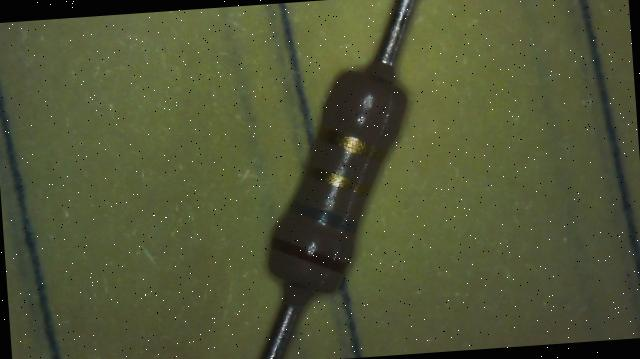brown: (269, 232, 347, 276)
gold: (316, 123, 386, 164), (304, 161, 371, 198)
grey: (288, 197, 358, 236)
resistor: (223, 48, 443, 334)
